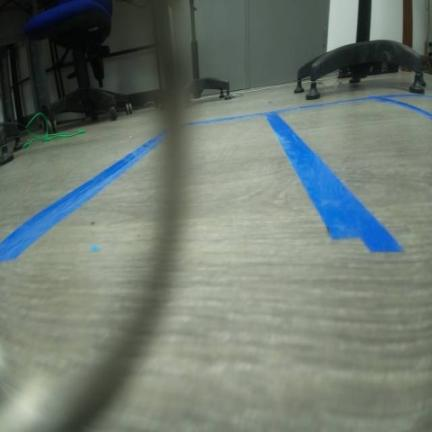place: (0, 109, 404, 262), (262, 94, 431, 254)
